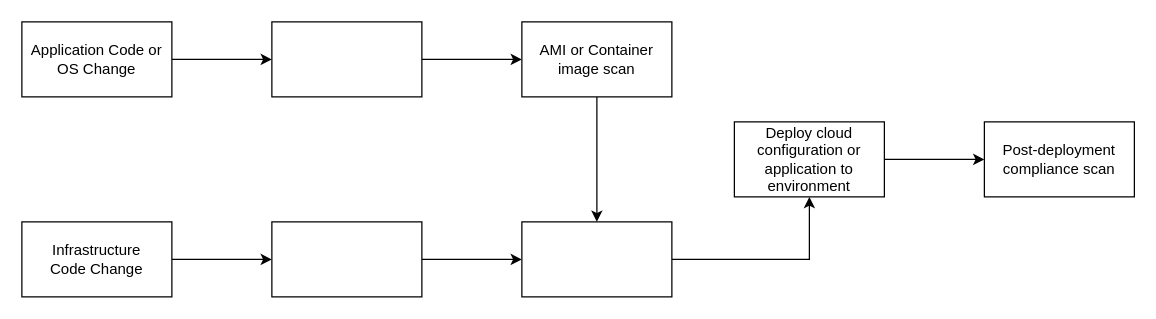
This 1156x319 diagram has some shape labels left out. The centre of each missing label's shape, as x and y in pixels:
Build the application container or OS image: [346,59]
IaC compliance scan: [346,259]
Update cloud and infrastructure configuration: [596,259]
